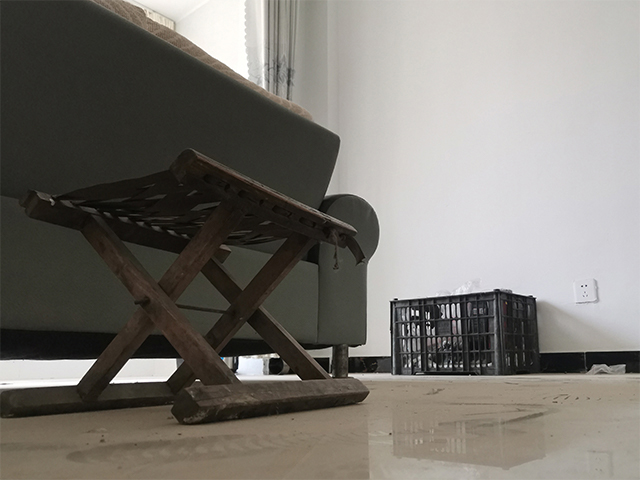sofa: (2, 1, 383, 378)
stool: (1, 146, 370, 427)
